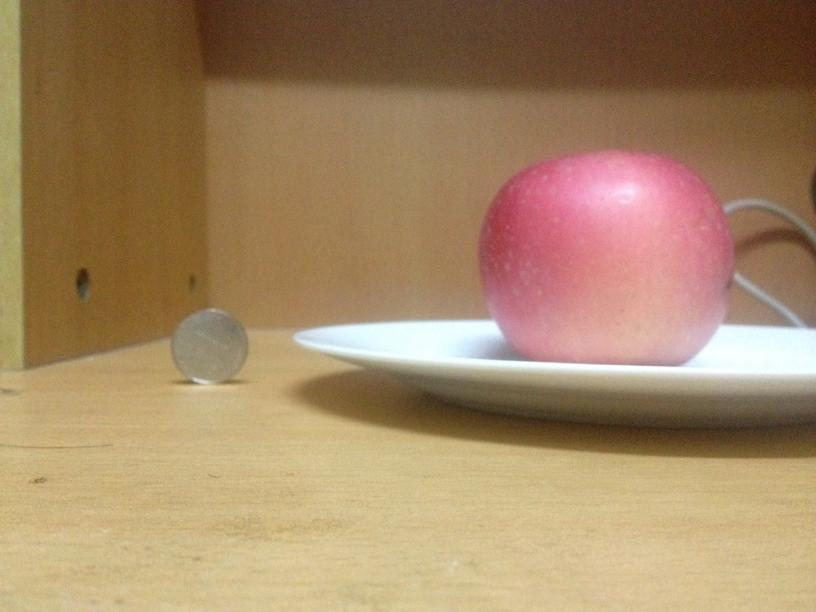apple: (478, 145, 733, 365)
coin: (170, 307, 249, 384)
